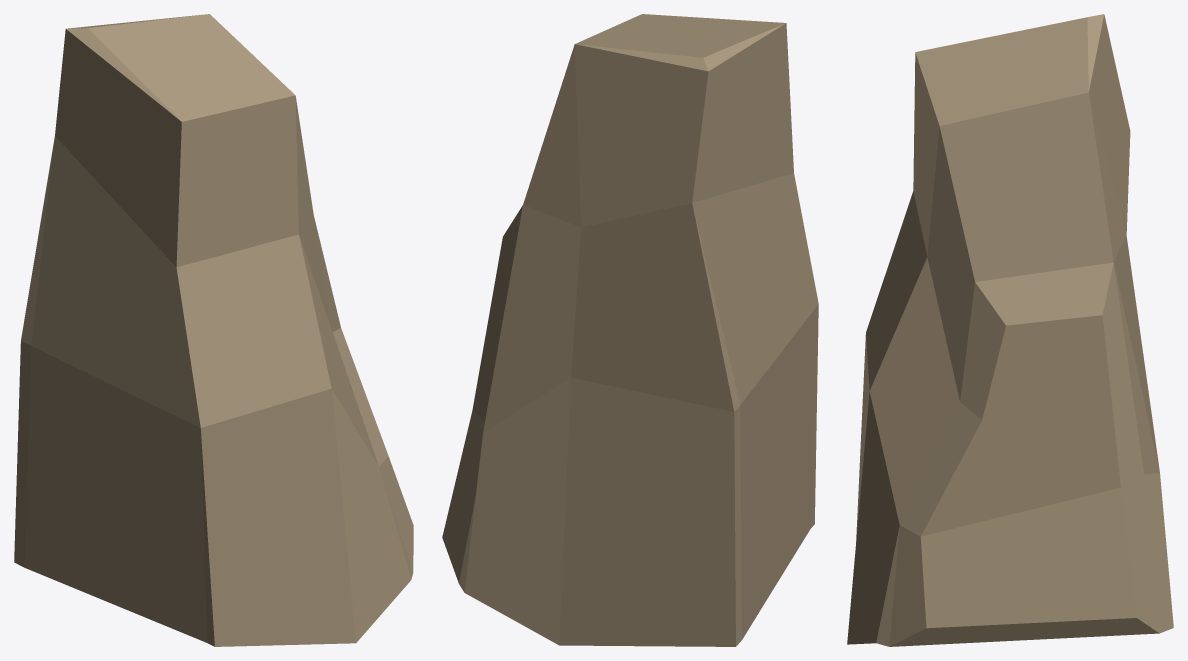
The model's file is rocher_1.glb.
3 views of the same model, side by side, from view 1: azimuth 30°, elevation 25°; view 2: azimuth 150°, elevation 25°; view 3: azimuth 270°, elevation 25° (orthographic). The views are drawn at different scales.
Visible parts, largest first — view 1: rocher_1; view 2: rocher_1; view 3: rocher_1.
Boxes of the visible parts, <box> form: rocher_1: <box>14,14,413,646</box>; rocher_1: <box>442,14,818,646</box>; rocher_1: <box>847,14,1173,646</box>.
Size of the model in its own units: 0.4976 by 0.9 by 0.4786.
